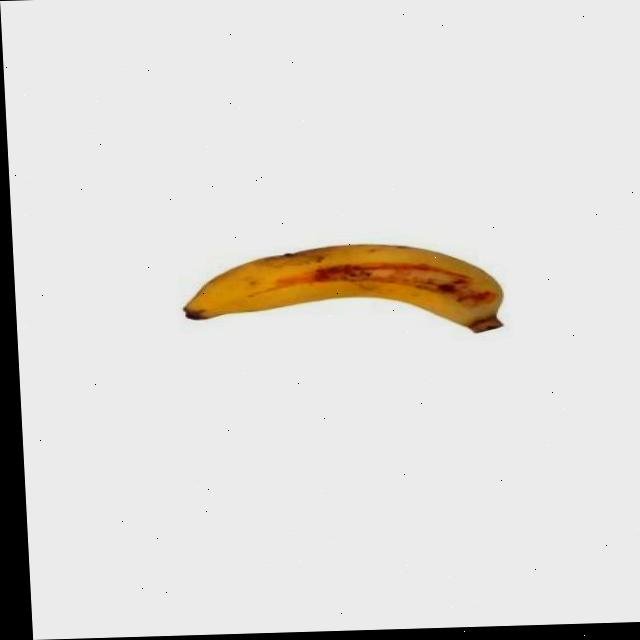banana: (174, 236, 507, 344)
